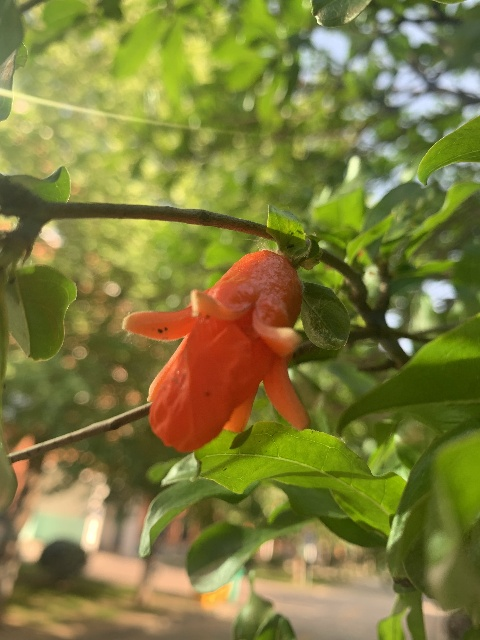flower: (123, 249, 309, 452)
